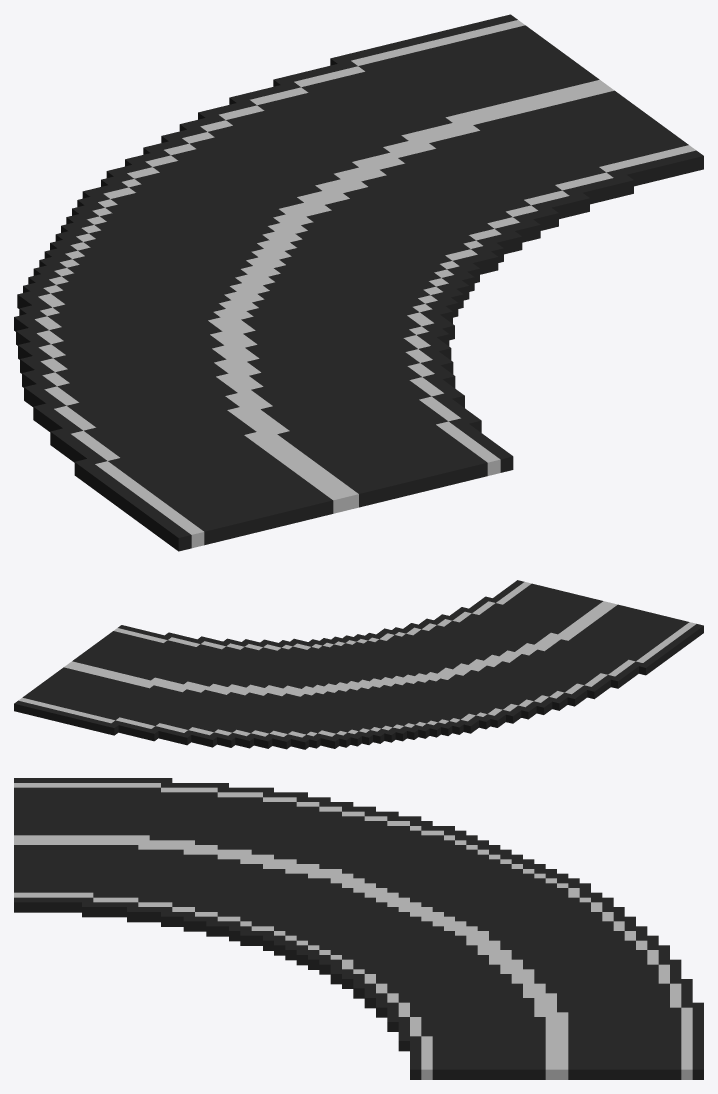
The model's file is road-rounded-curve-large-2.gltf.
3 renders of one model, top to bottom at view 1: azimuth 30°, elevation 25°; view 2: azimuth 150°, elevation 25°; view 3: azimuth 270°, elevation 25°, orthographic. The views are drawn at different scales.
Parts seen in each view (by area): view 1: road-rounded-curve-large-2; view 2: road-rounded-curve-large-2; view 3: road-rounded-curve-large-2.
Boxes of the visible parts, x1,y1,x2,y2 form: road-rounded-curve-large-2: [14, 14, 703, 551]; road-rounded-curve-large-2: [14, 580, 703, 749]; road-rounded-curve-large-2: [14, 778, 703, 1079].
Size of the model in its own units: 6.1 by 0.1 by 6.1.
Materials: 1 (1 with a texture image).
